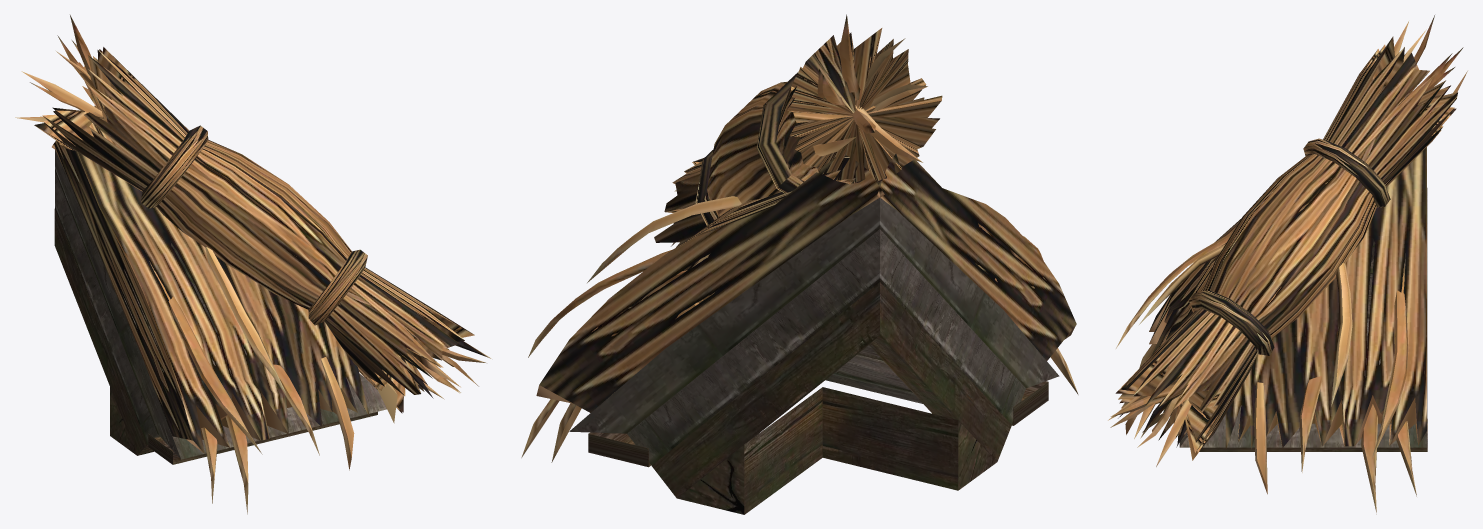
3 views of the same model, side by side, from view 1: azimuth 30°, elevation 25°; view 2: azimuth 150°, elevation 25°; view 3: azimuth 270°, elevation 25° (orthographic). The views are drawn at different scales.
Parts seen in each view (by area): view 1: SM_BB_T1_Extended_Roof_Small_Hip_LOD0; view 2: SM_BB_T1_Extended_Roof_Small_Hip_LOD0; view 3: SM_BB_T1_Extended_Roof_Small_Hip_LOD0.
Boxes of the visible parts, left/top/right/bottom form: SM_BB_T1_Extended_Roof_Small_Hip_LOD0: left=15, top=15, right=491, bottom=514; SM_BB_T1_Extended_Roof_Small_Hip_LOD0: left=521, top=14, right=1078, bottom=514; SM_BB_T1_Extended_Roof_Small_Hip_LOD0: left=1108, top=15, right=1467, bottom=514.
Size of the model in its own units: 1.72 by 1.99 by 1.69.
3 materials, 3 textured.
